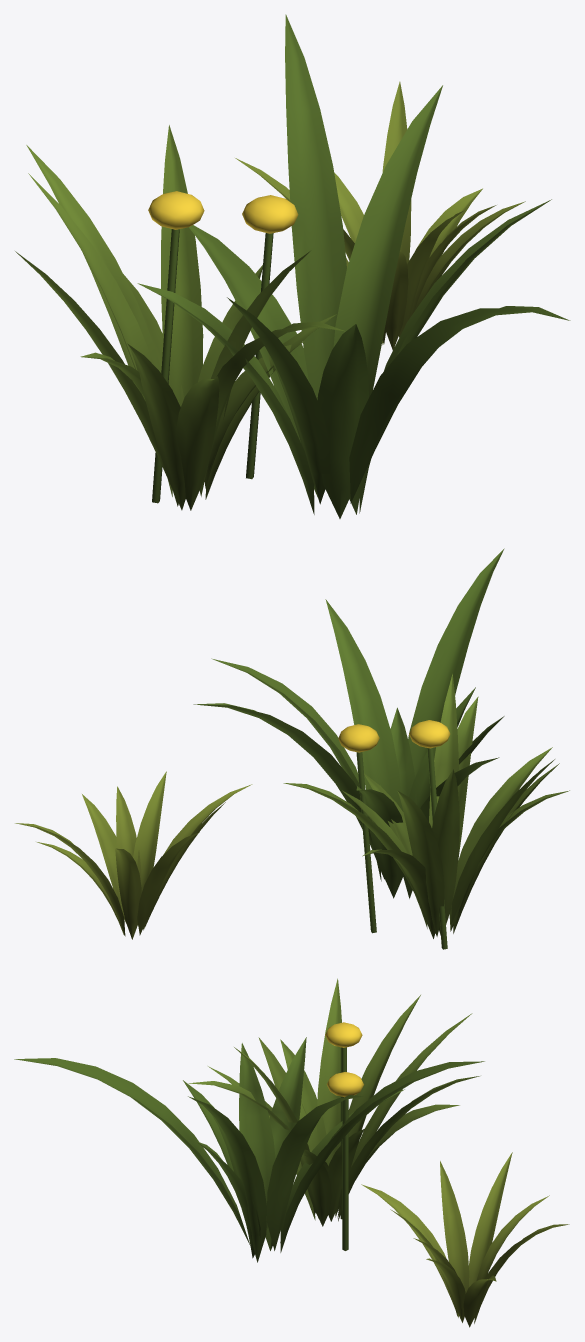
The model's file is yd_weeds__223.glb.
The picture shows the model from 3 angles, top to bottom: view 1: azimuth 30°, elevation 25°; view 2: azimuth 150°, elevation 25°; view 3: azimuth 270°, elevation 25°; orthographic projection. The views are drawn at different scales.
Visible parts, largest first — view 1: prop_yd_weeds; view 2: prop_yd_weeds; view 3: prop_yd_weeds.
Boxes of the visible parts, x1,y1,x2,y2 form: prop_yd_weeds: (15, 14, 570, 518); prop_yd_weeds: (15, 548, 569, 949); prop_yd_weeds: (14, 978, 569, 1327).
Size of the model in its own units: 0.5777 by 0.3304 by 0.7121.
